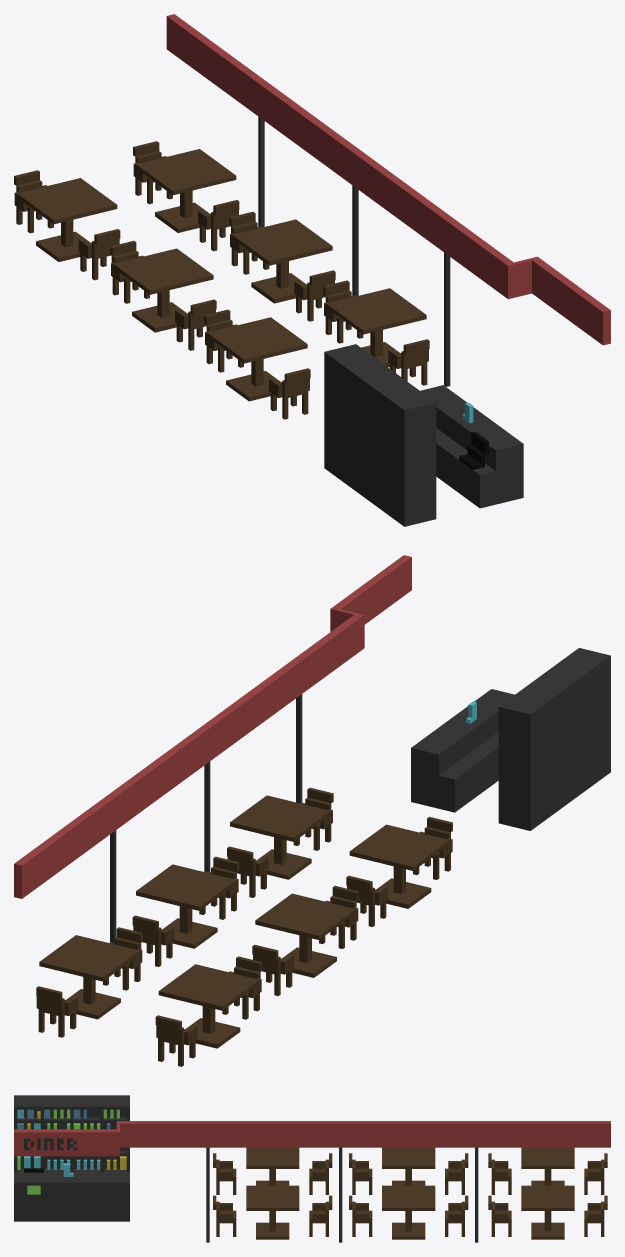
Rendered from shop-3.obj.
3 renders of one model, top to bottom at view 1: azimuth 30°, elevation 25°; view 2: azimuth 150°, elevation 25°; view 3: azimuth 270°, elevation 25°, orthographic. The views are drawn at different scales.
Bounding box in the file's own units: 5.2 × 4 × 18.
Materials: 1 (1 with a texture image).
